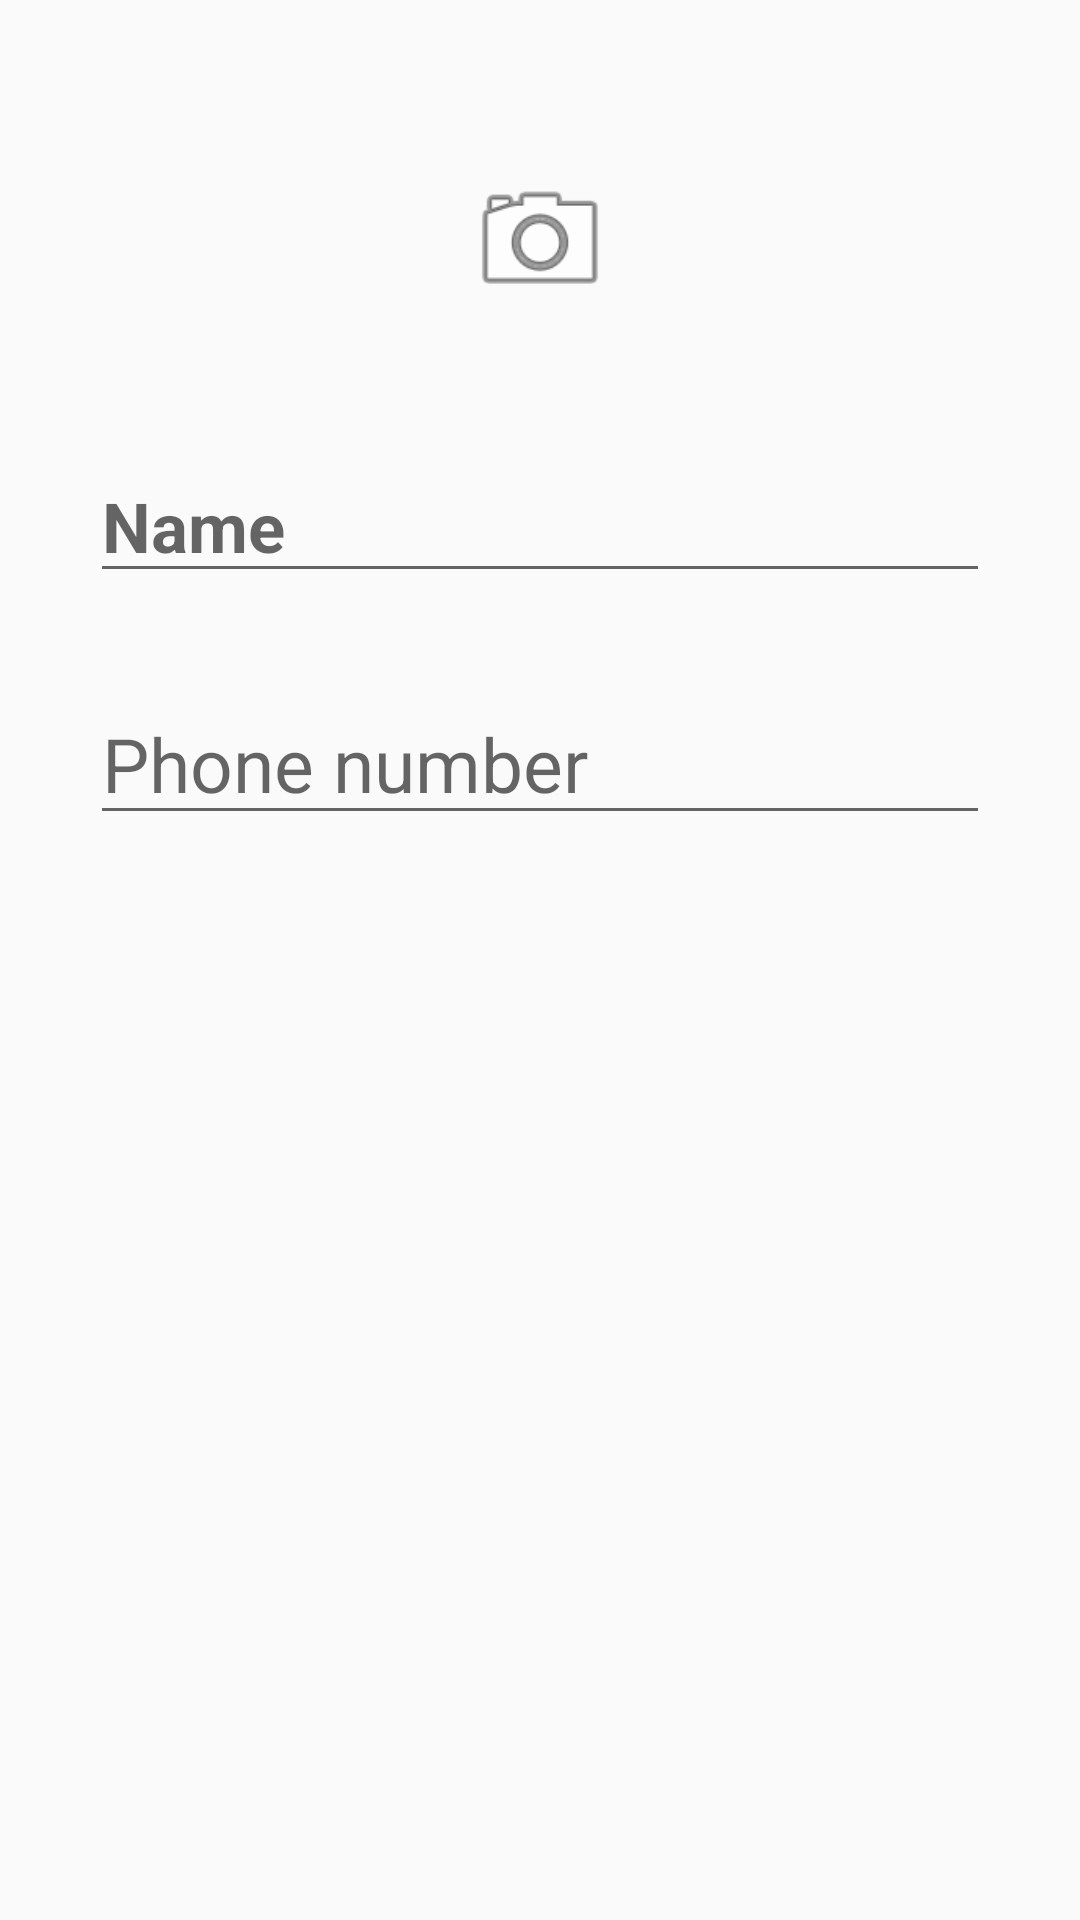

Point at icon controls on the screen. Image size 1080px x 1920px, points as [x,y].
camera: [540,237]
